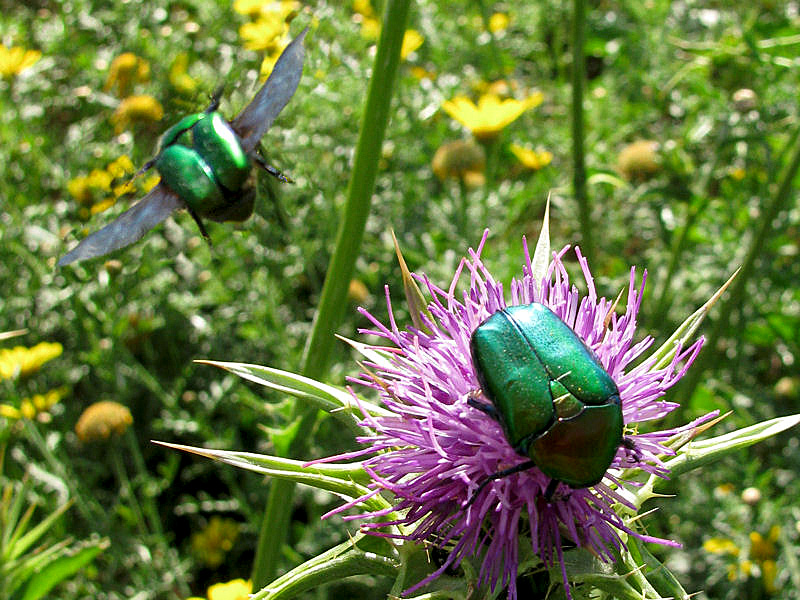Protaetia_cuprea_ignicollis: (458, 284, 641, 510)
